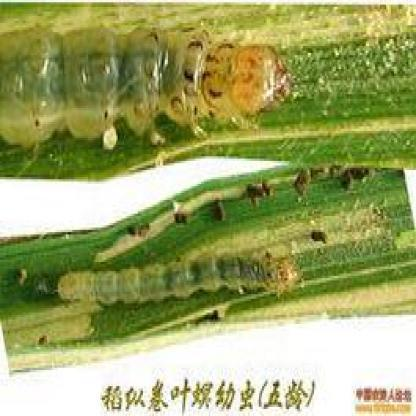leaf-folder: (20, 22, 300, 160), (58, 258, 310, 334)
